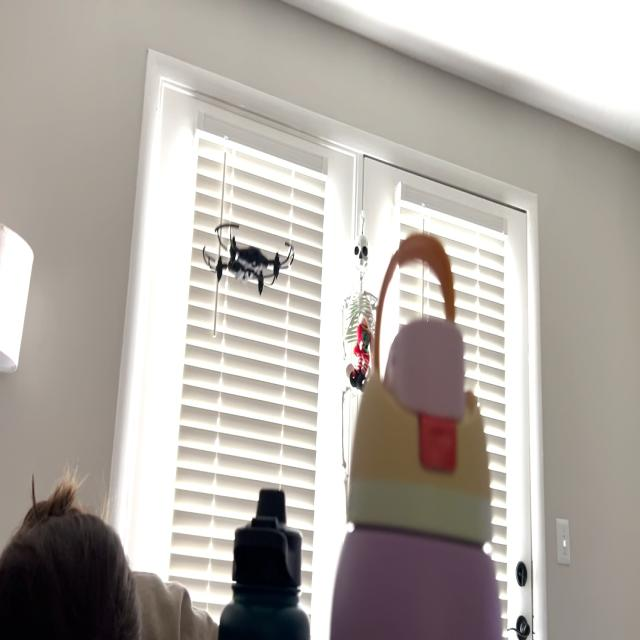drone: (198, 209, 300, 305)
